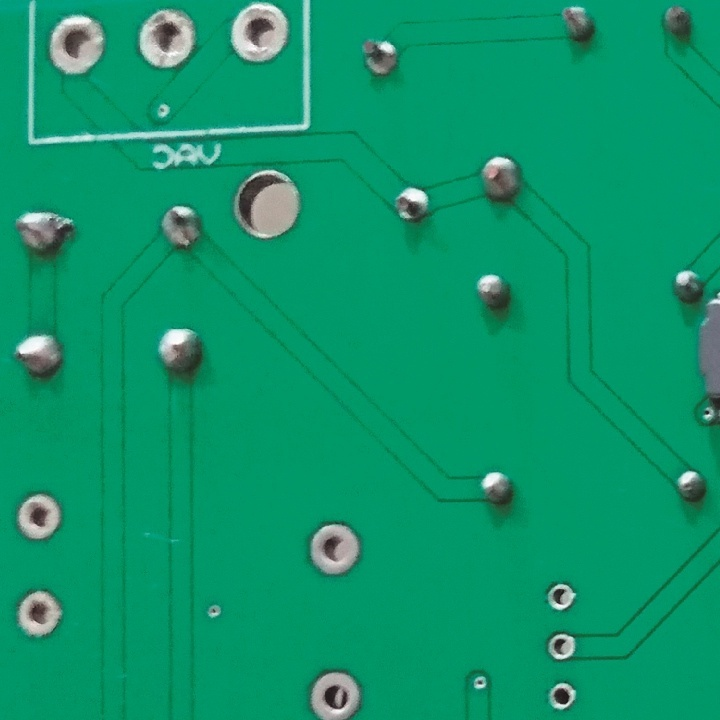F: (44, 12, 110, 78), (230, 1, 295, 65), (137, 7, 203, 69), (306, 523, 370, 583), (14, 584, 69, 646), (304, 668, 367, 720), (13, 491, 67, 544), (542, 580, 582, 615), (547, 680, 579, 714), (547, 632, 582, 663)
